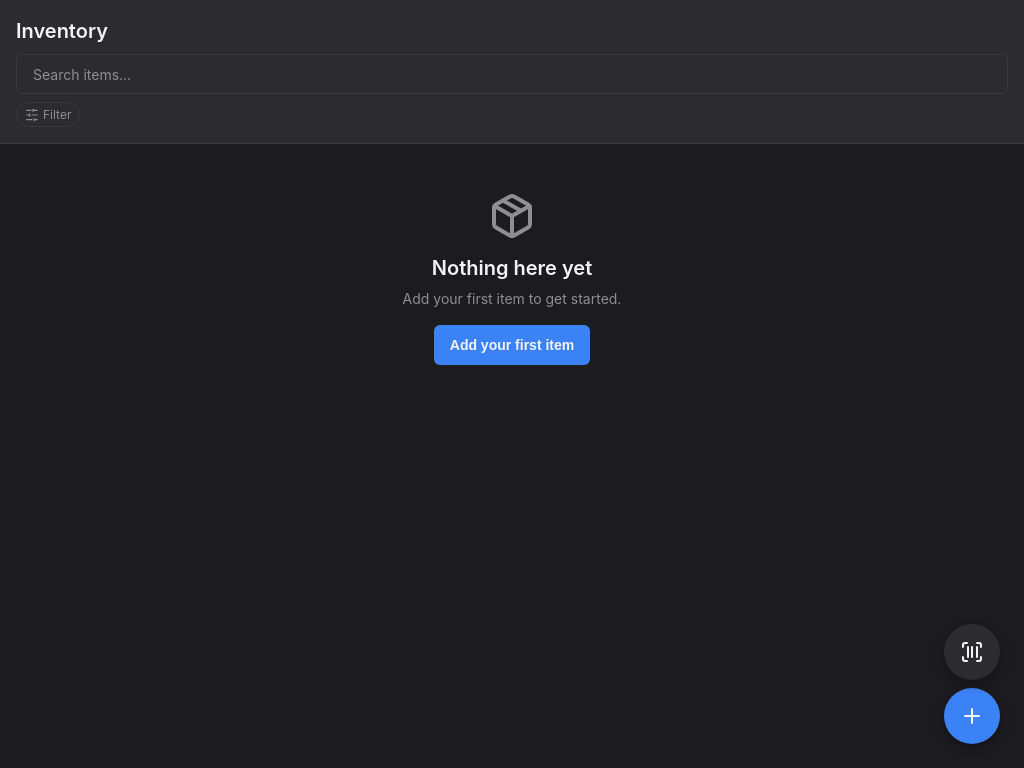
Test: Barcode scan flow (Phase 3 integration) › Test C: unknown barcode with OFF miss opens ItemDrawer barcode-only, NO error (ROADMAP criterion 4, ITEM-08, D-08)
Click the button named "Scan barcode". click: (972, 652)
box: [944,624,1000,680]
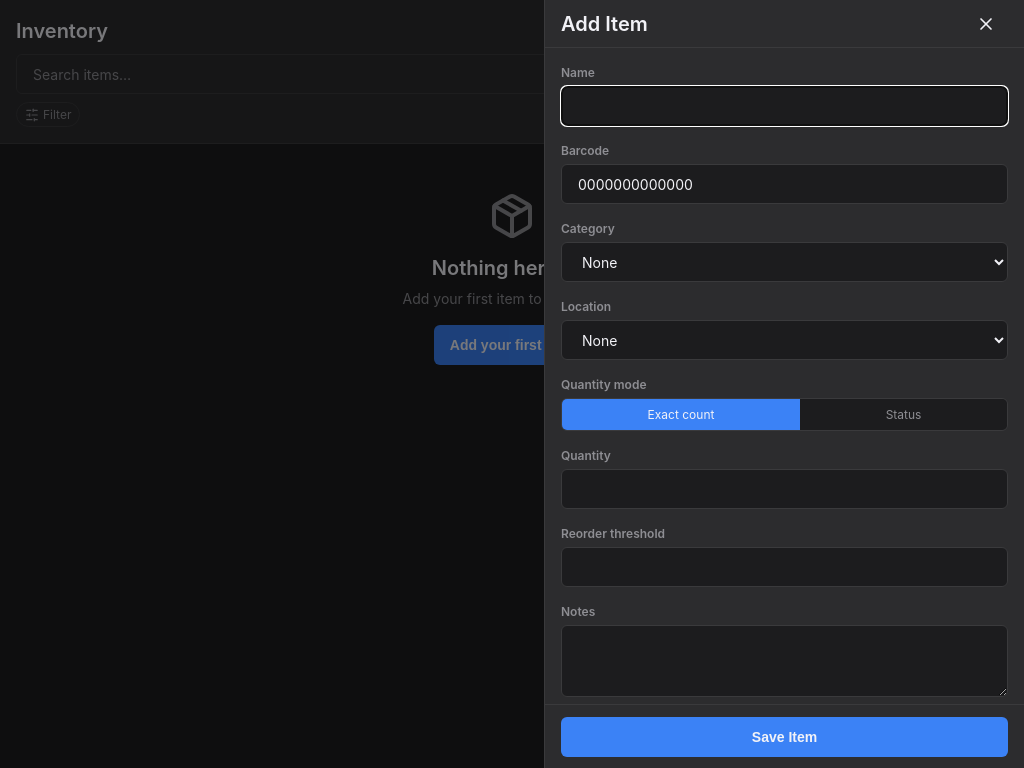
expect the heading "Add Item" is shown: met, box [561,8,648,38]
expect the field labelled "Barcode" holds "0000000000000": met, box [561,164,1008,204]
expect the field labelled "Name" is empty: met, box [561,86,1008,126]
